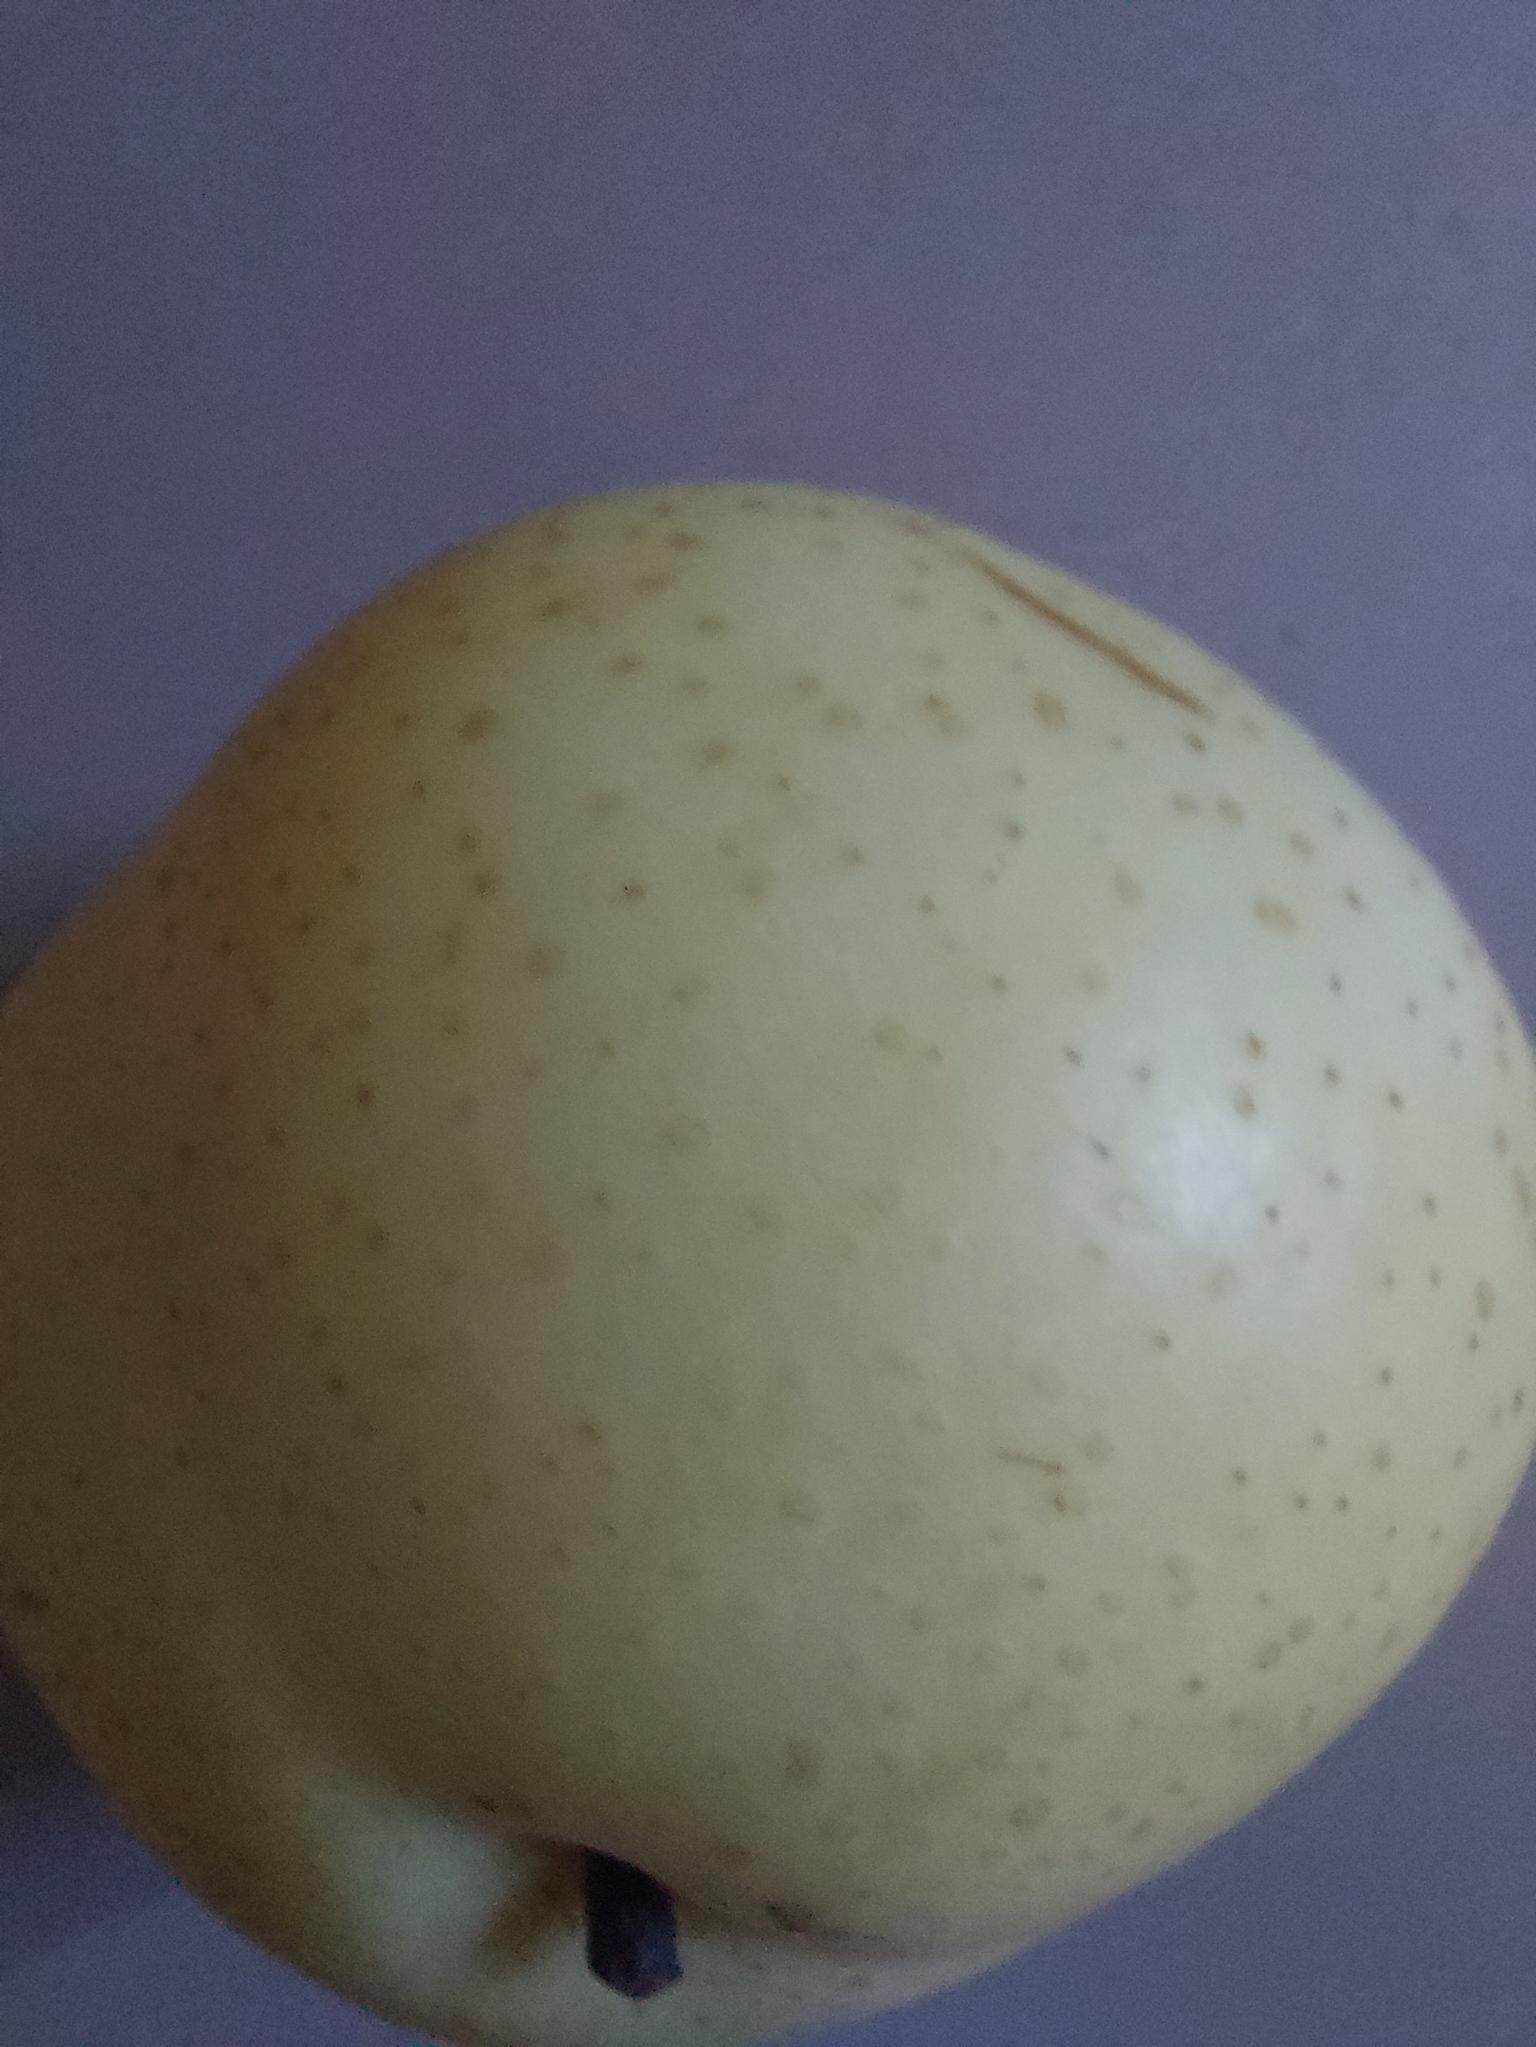Good Pear: (0, 469, 1536, 2047)
